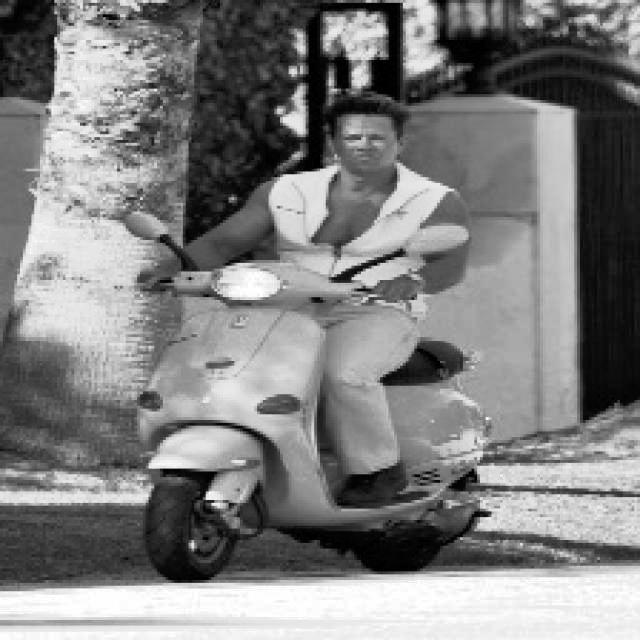Bike: (104, 259, 500, 581)
